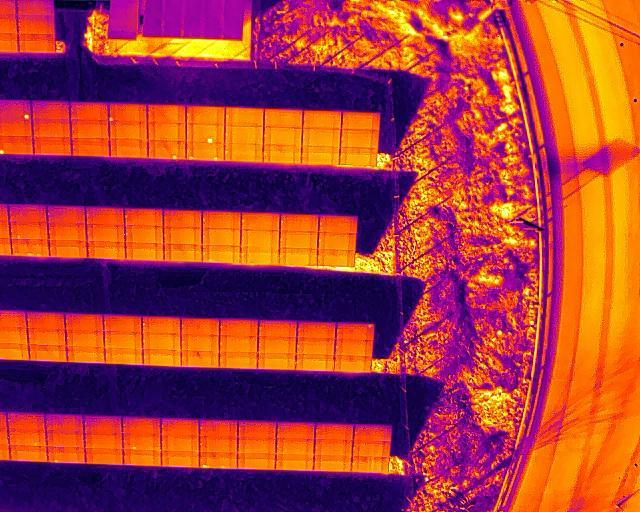Cell: (148, 139, 186, 159), (185, 125, 224, 144), (108, 104, 147, 122), (123, 435, 162, 452), (47, 446, 85, 463), (336, 323, 374, 339)
Cell-Multi: (186, 142, 225, 161), (198, 453, 238, 470)
No-Anomaly: (159, 418, 199, 438), (224, 107, 264, 127), (8, 203, 48, 223), (83, 415, 122, 435), (313, 454, 353, 473), (237, 421, 276, 440), (122, 417, 161, 436), (295, 353, 334, 372), (70, 120, 109, 139), (341, 111, 380, 130), (147, 104, 186, 123), (185, 105, 224, 124), (237, 452, 276, 471), (8, 428, 47, 447), (142, 348, 181, 367), (201, 244, 240, 263), (163, 243, 202, 262), (318, 214, 357, 233), (202, 210, 241, 229), (224, 143, 263, 162), (301, 146, 340, 165), (263, 144, 302, 163), (109, 139, 148, 158), (263, 126, 302, 145), (225, 125, 264, 144), (18, 34, 55, 54), (277, 422, 315, 441), (17, 15, 55, 34), (304, 110, 342, 129), (32, 101, 70, 120), (200, 435, 238, 454), (302, 128, 340, 147), (33, 137, 71, 156), (71, 138, 109, 157), (147, 122, 185, 141), (6, 412, 46, 430), (199, 420, 239, 438), (314, 423, 354, 441), (84, 448, 124, 466), (65, 330, 105, 348), (65, 346, 105, 364), (295, 337, 335, 355), (201, 228, 241, 246), (275, 454, 314, 472), (257, 352, 296, 370), (109, 121, 148, 139), (70, 103, 109, 121), (123, 449, 162, 467), (84, 432, 123, 450), (353, 424, 392, 442), (142, 333, 181, 351), (180, 334, 219, 352), (125, 226, 164, 244), (278, 248, 317, 266), (240, 246, 279, 264), (125, 242, 164, 260), (10, 239, 49, 257), (49, 240, 88, 258), (279, 231, 318, 249), (280, 214, 319, 232), (9, 222, 48, 240), (47, 205, 86, 223), (241, 213, 280, 231), (163, 210, 202, 228), (265, 110, 303, 128), (33, 119, 71, 137), (87, 224, 125, 242), (104, 331, 142, 349), (316, 249, 354, 267), (65, 314, 103, 332), (87, 242, 125, 260), (242, 230, 280, 248), (318, 232, 356, 250), (49, 223, 87, 241), (341, 130, 379, 148), (8, 445, 48, 462), (256, 337, 296, 354), (46, 415, 83, 433), (352, 456, 389, 474), (340, 148, 377, 166), (314, 439, 353, 456), (237, 437, 276, 454), (161, 436, 200, 453), (180, 351, 219, 368), (28, 345, 67, 362), (219, 319, 258, 336), (258, 320, 297, 337), (142, 317, 181, 334), (180, 318, 219, 335), (26, 312, 65, 329), (103, 315, 142, 332), (163, 227, 202, 244), (86, 208, 125, 225), (124, 209, 163, 226), (219, 352, 257, 369), (162, 451, 200, 468), (104, 348, 142, 365), (219, 335, 257, 352), (27, 329, 65, 346), (334, 355, 371, 372), (277, 439, 314, 456), (335, 339, 372, 356), (297, 322, 336, 338), (352, 440, 390, 456), (46, 431, 84, 447), (17, 0, 55, 15)
